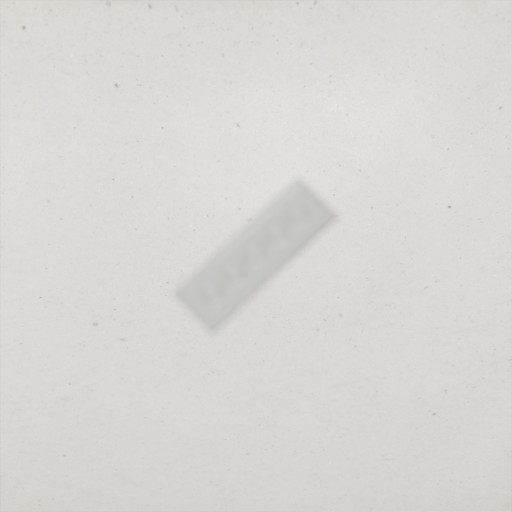lego: (171, 175, 340, 336)
